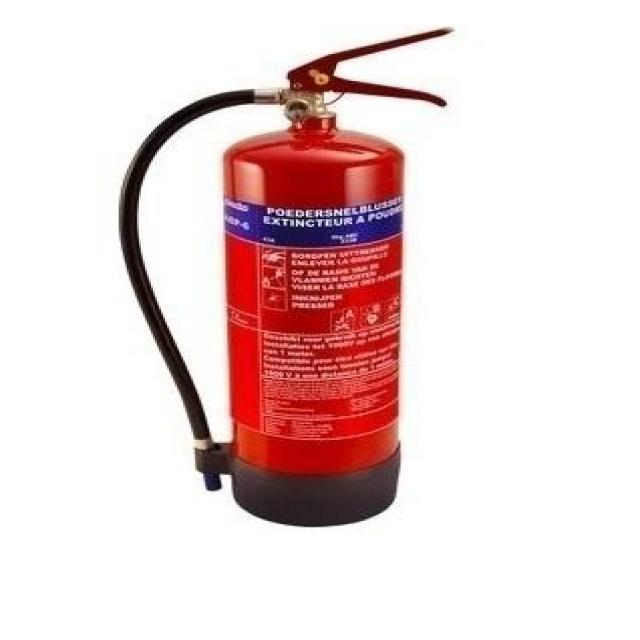fire_extinguisher: (109, 22, 461, 530)
